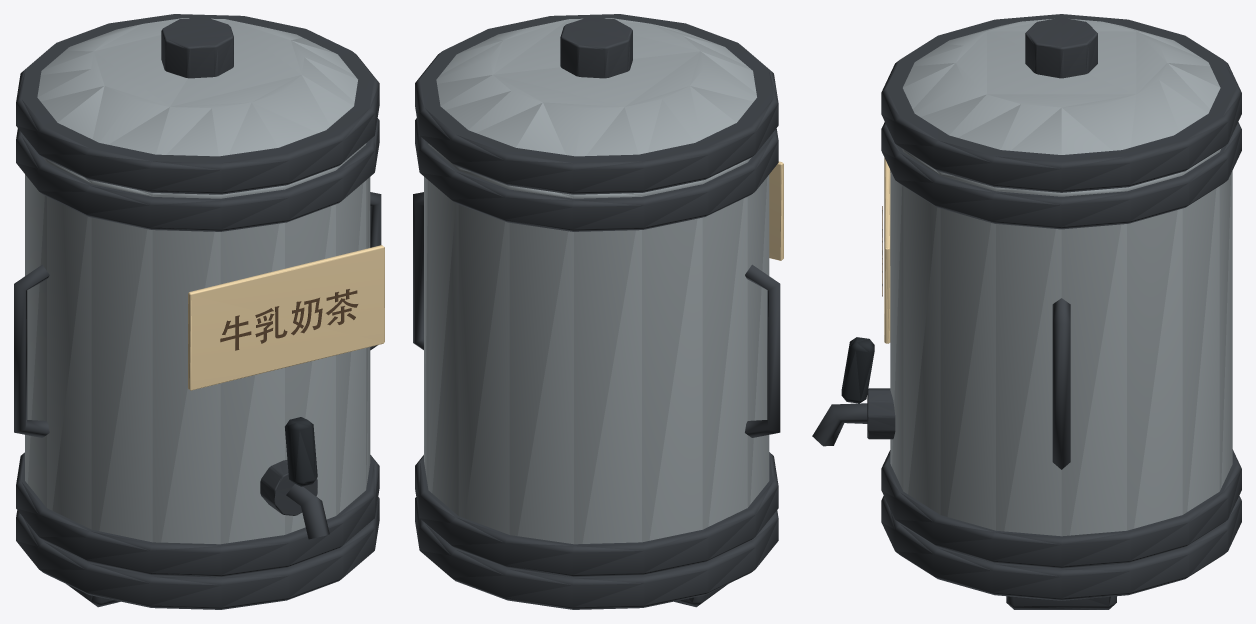
File: tea_dispenser_01.fbx
The picture shows the model from 3 angles, left to right: view 1: azimuth 30°, elevation 25°; view 2: azimuth 150°, elevation 25°; view 3: azimuth 270°, elevation 25°; orthographic projection.
Visible parts, largest first — view 1: tea_dispenser_01; view 2: tea_dispenser_01; view 3: tea_dispenser_01.
Boxes of the visible parts, box(x1,y1,x2,y2) form: tea_dispenser_01: box(14, 14, 384, 609); tea_dispenser_01: box(413, 14, 783, 609); tea_dispenser_01: box(812, 14, 1241, 609).
Size of the model in its own units: 41.38 by 56.8 by 42.67.
